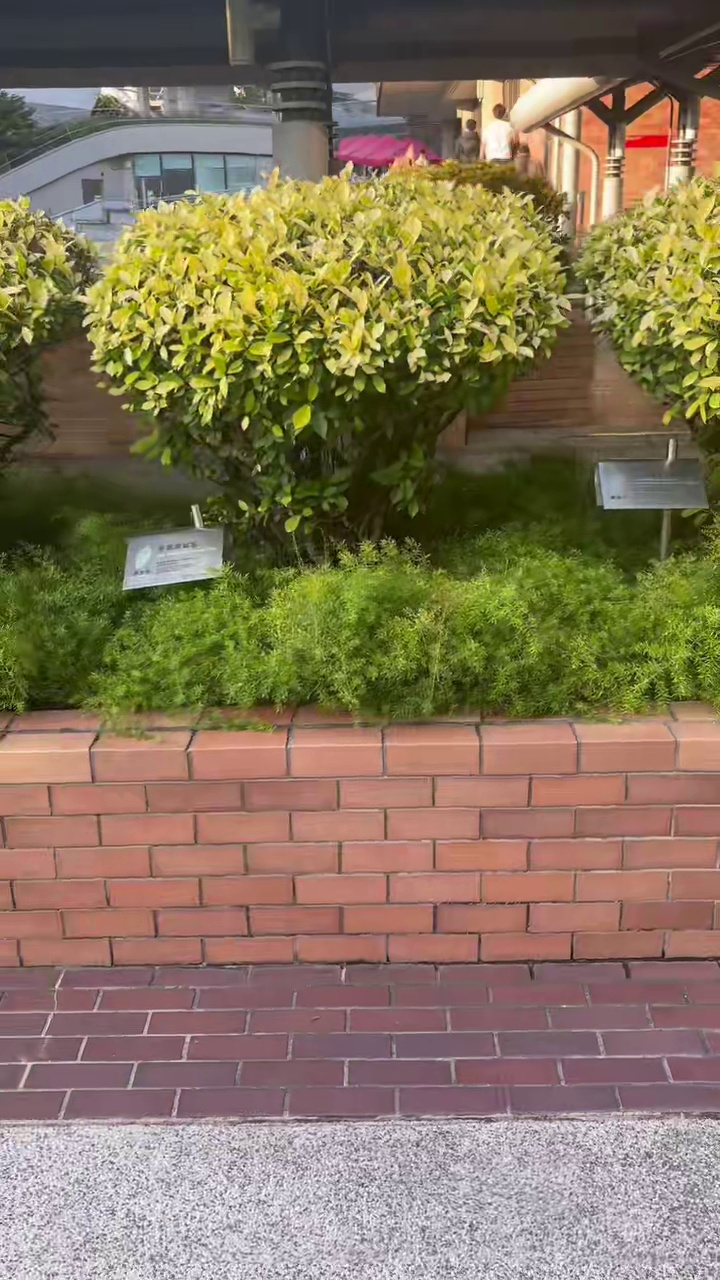Golden-leaves Fig: (86, 172, 565, 550)
